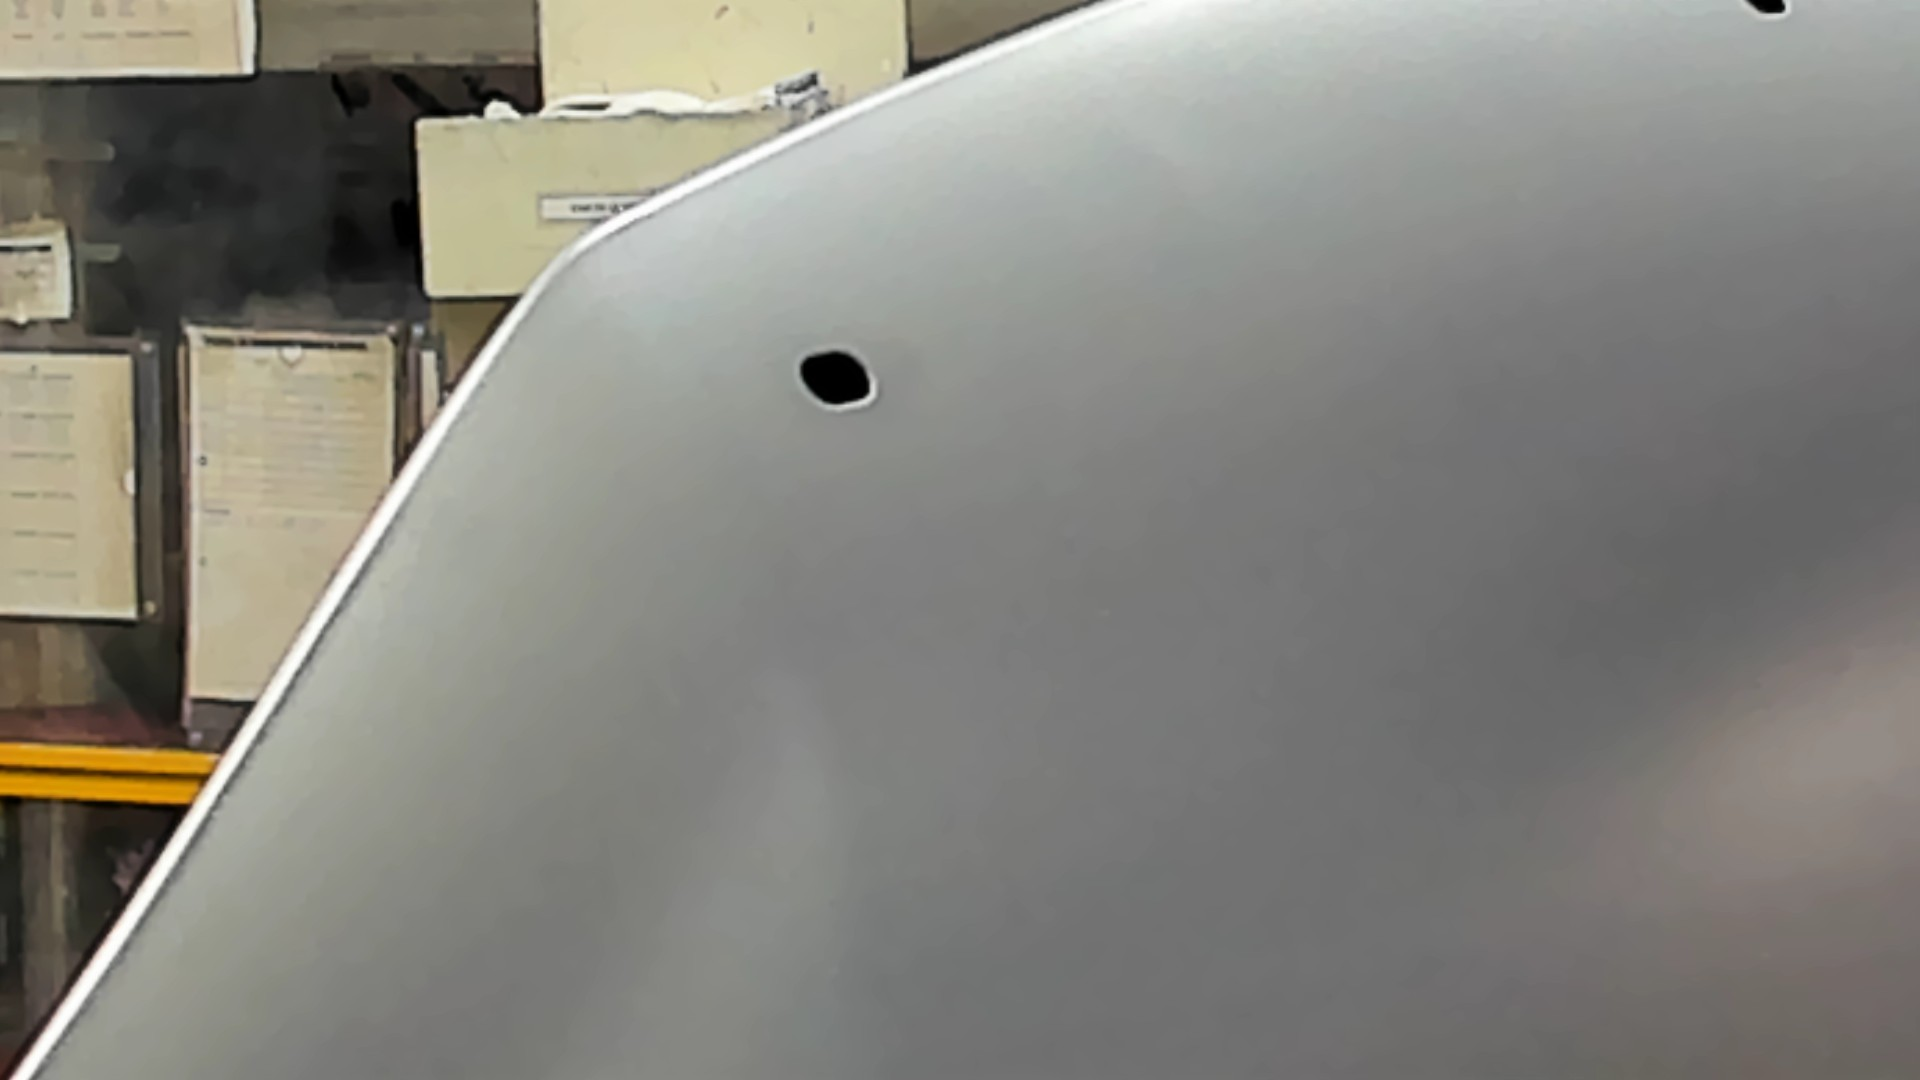amorfo: (789, 342, 884, 415), (1742, 1, 1796, 22)
